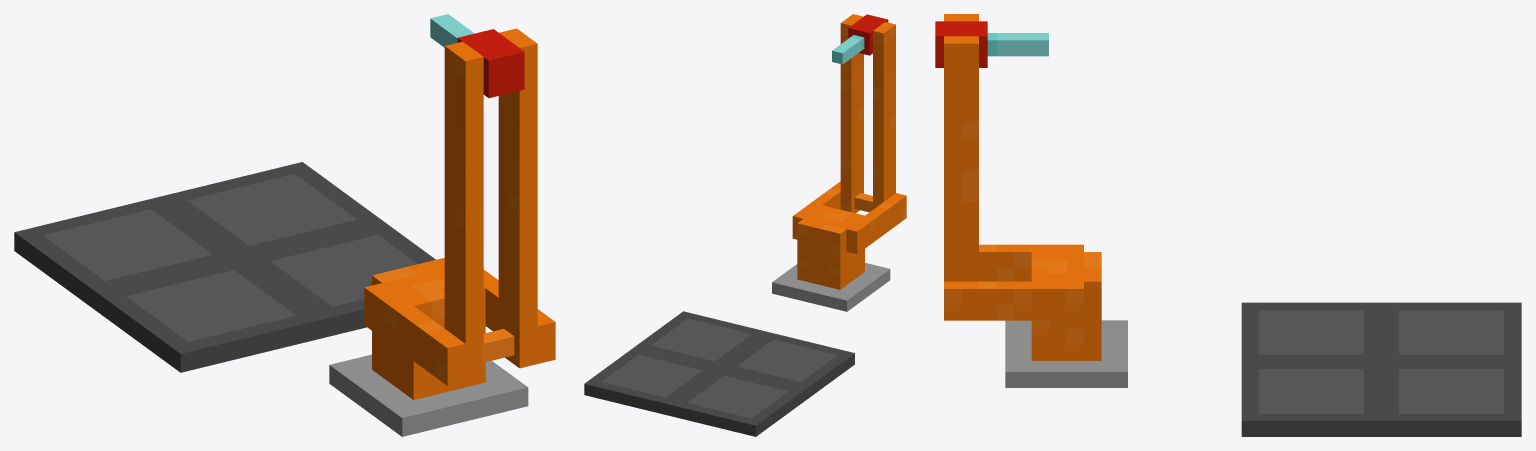
The model's file is assembly_drill.obj.
3 renders of one model, left to right at view 1: azimuth 30°, elevation 25°; view 2: azimuth 150°, elevation 25°; view 3: azimuth 270°, elevation 25°, orthographic. The views are drawn at different scales.
Parts seen in each view (by area): view 1: Base, ArmMiddle1, ArmMiddle2, BaseTurn, BaseTurn2, ArmBase2, DrillBase, ArmBase1, Drill, SupportMiddle; view 2: Base, BaseTurn2, ArmMiddle1, ArmMiddle2, BaseTurn, ArmBase2, ArmBase1, DrillBase, Drill; view 3: Base, ArmMiddle2, BaseTurn2, ArmBase1, BaseTurn, ArmBase2, Drill, DrillBase.
Boxes of the visible parts, box(x1,y1,x2,y2) form: Base: box(14, 162, 435, 372); ArmMiddle1: box(444, 41, 483, 381); ArmMiddle2: box(498, 28, 537, 368); BaseTurn: box(329, 354, 528, 436); BaseTurn2: box(372, 258, 485, 399); ArmBase2: box(364, 283, 465, 385); DrillBase: box(457, 29, 524, 98); ArmBase1: box(483, 269, 555, 363); Drill: box(430, 14, 474, 47); SupportMiddle: box(483, 329, 514, 362); Base: box(584, 311, 854, 436); BaseTurn2: box(797, 205, 864, 289); ArmMiddle1: box(873, 22, 895, 209); ArmMiddle2: box(840, 14, 863, 213); BaseTurn: box(772, 263, 890, 311); ArmBase2: box(846, 193, 906, 253); ArmBase1: box(792, 181, 840, 239); DrillBase: box(848, 14, 888, 55); Drill: box(832, 35, 864, 64); Base: box(1241, 302, 1521, 436); ArmMiddle2: box(944, 36, 978, 281); BaseTurn2: box(1031, 252, 1101, 360); ArmBase1: box(944, 281, 1083, 320); BaseTurn: box(1005, 320, 1127, 387); ArmBase2: box(979, 244, 1083, 281); Drill: box(987, 33, 1048, 56); DrillBase: box(935, 21, 987, 67).
Size of the model in its own units: 1 by 1.38 by 2.09.
